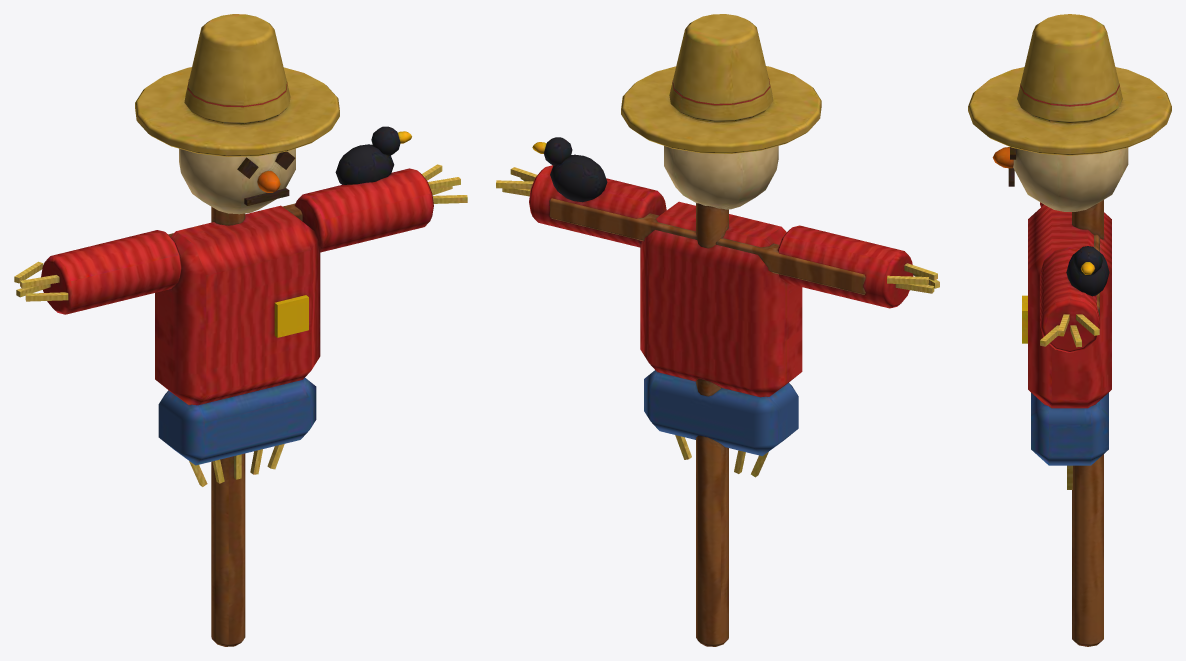
Rendered from scarecrow.glb.
3 renders of one model, left to right at view 1: azimuth 30°, elevation 25°; view 2: azimuth 150°, elevation 25°; view 3: azimuth 270°, elevation 25°, orthographic. The views are drawn at different scales.
Parts seen in each view (by area): view 1: scarecrow; view 2: scarecrow; view 3: scarecrow.
Part boxes in pixels (x1,y1,x2,y2): scarecrow: (14,14,467,646); scarecrow: (496,14,939,646); scarecrow: (968,14,1171,646).
Size of the model in its own units: 0.8307 by 1.13 by 0.34.
Materials: 1 (1 with a texture image).
